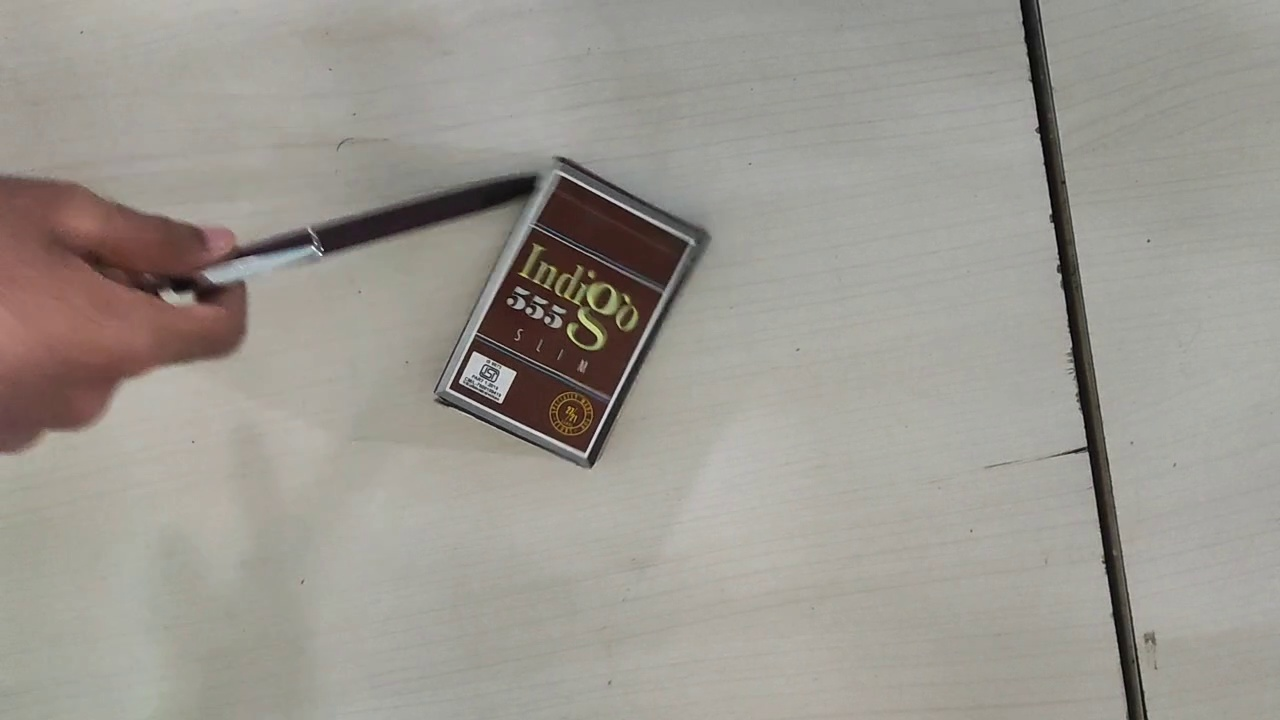BEX: (447, 174, 693, 453)
